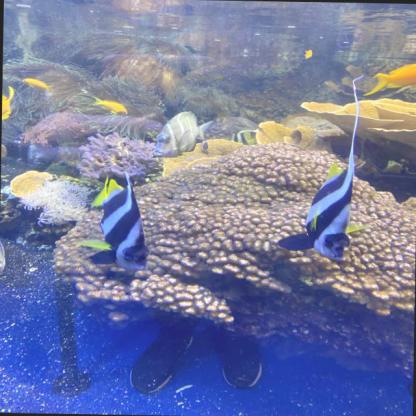fish: (278, 162, 366, 261), (74, 174, 150, 271), (156, 110, 212, 155), (363, 60, 415, 96), (88, 96, 126, 115), (232, 129, 257, 145), (2, 86, 14, 118), (22, 78, 50, 90), (303, 48, 311, 58)
